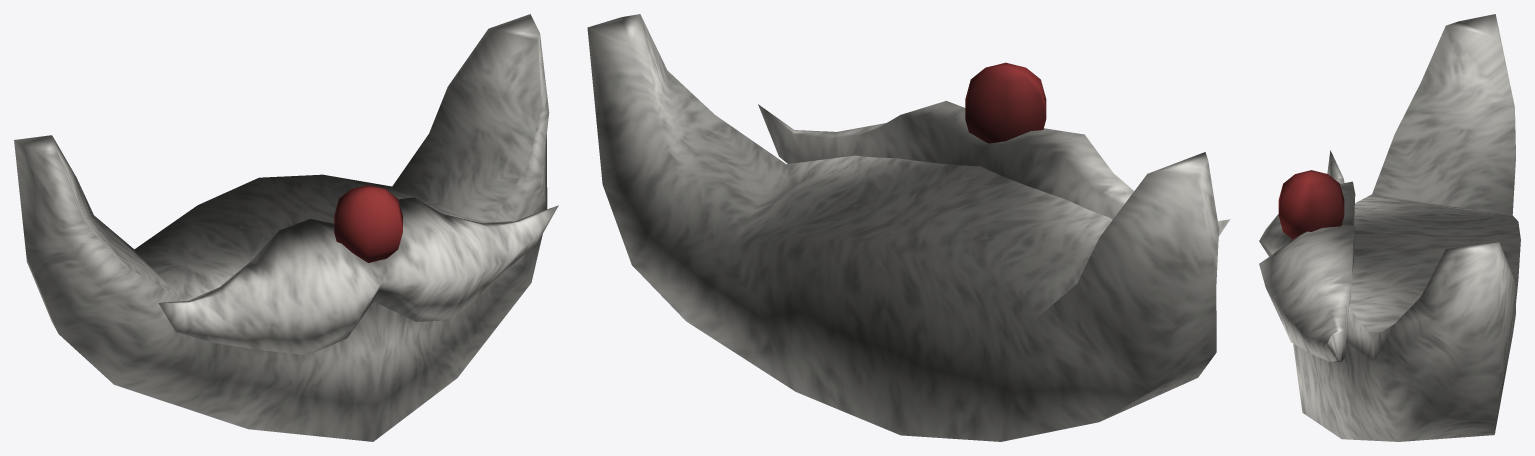
File: SM_MustacheA.FBX
The picture shows the model from 3 angles, left to right: view 1: azimuth 30°, elevation 25°; view 2: azimuth 150°, elevation 25°; view 3: azimuth 270°, elevation 25°; orthographic projection. The views are drawn at different scales.
Parts seen in each view (by area): view 1: SM_MustacheA; view 2: SM_MustacheA; view 3: SM_MustacheA.
Boxes of the visible parts, <box> form: SM_MustacheA: <box>14,14,558,441</box>; SM_MustacheA: <box>587,14,1230,441</box>; SM_MustacheA: <box>1259,14,1520,441</box>.
Size of the model in its own units: 113 by 51.37 by 60.21.
